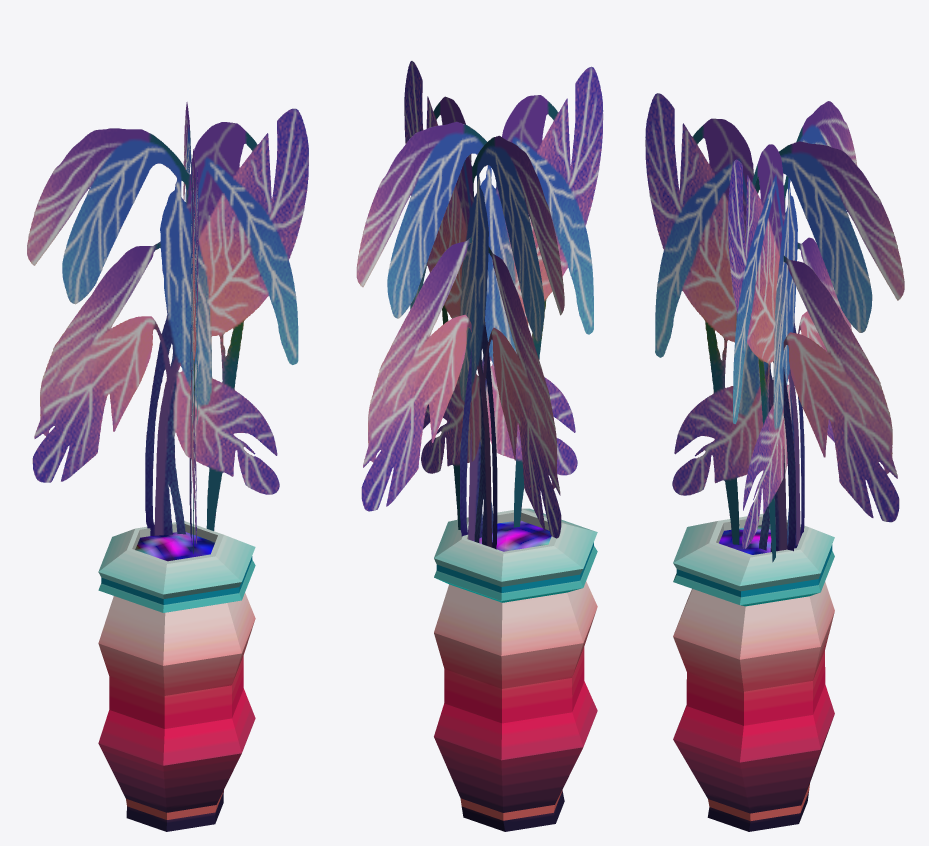
The model's file is Structure_Retro_Pot_05_Art.fbx.
3 renders of one model, left to right at view 1: azimuth 30°, elevation 25°; view 2: azimuth 150°, elevation 25°; view 3: azimuth 270°, elevation 25°, orthographic. The views are drawn at different scales.
Visible parts, largest first — view 1: Structure_Retro_Plants_05, Structure_Retro_Pot_05_Art, Structure_Retro_Plants_06; view 2: Structure_Retro_Plants_05, Structure_Retro_Pot_05_Art, Structure_Retro_Plants_06; view 3: Structure_Retro_Plants_05, Structure_Retro_Pot_05_Art, Structure_Retro_Plants_06.
Boxes of the visible parts, x1,y1,x2,y2 form: Structure_Retro_Plants_05: (27,102,308,554); Structure_Retro_Pot_05_Art: (98,521,255,831); Structure_Retro_Plants_06: (28,105,308,552); Structure_Retro_Plants_05: (356,61,603,548); Structure_Retro_Pot_05_Art: (434,508,597,831); Structure_Retro_Plants_06: (357,61,602,549); Structure_Retro_Plants_05: (645,93,904,562); Structure_Retro_Pot_05_Art: (673,513,834,831); Structure_Retro_Plants_06: (645,93,901,561).
Bounding box in the file's own units: 101 × 295 × 99.55.
